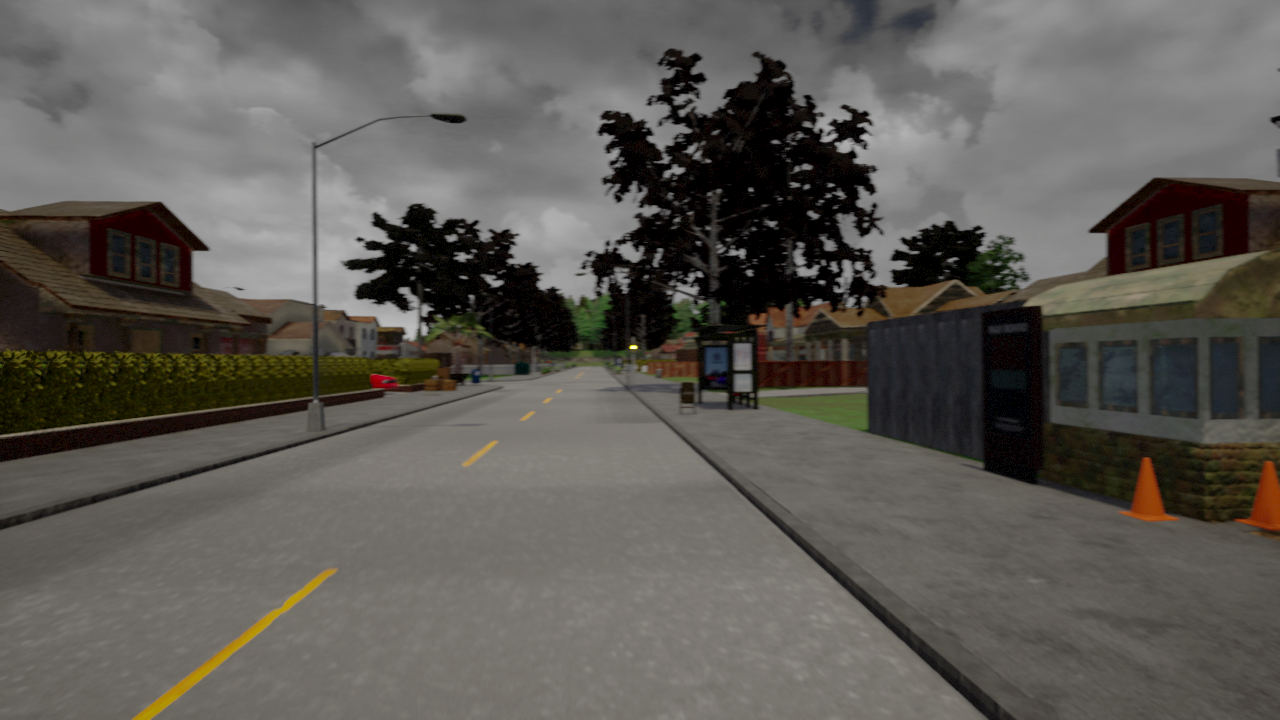yellow: (628, 339, 639, 357)
